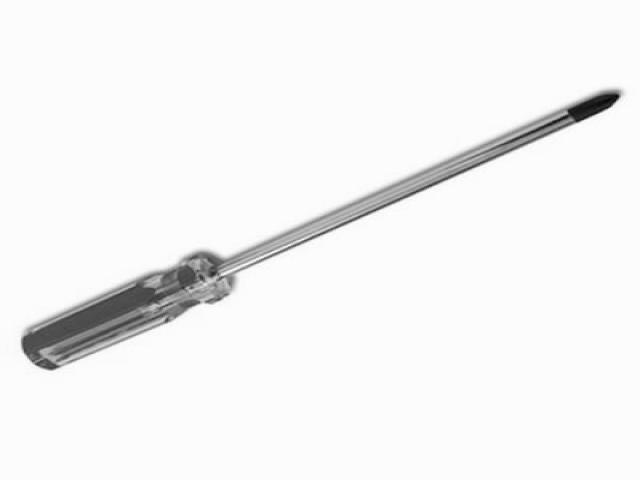Screwdriver: (21, 94, 616, 370)
